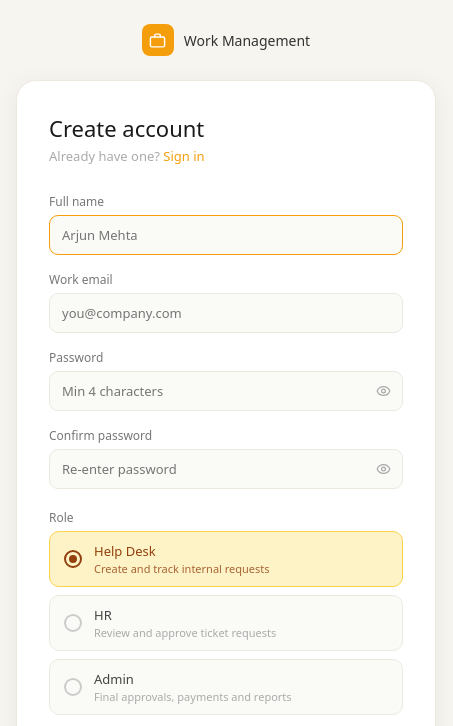
Test: RegisterPage › shows validation error on password mismatch
Type "New User" into the field labelled "Full name" at [226, 235], box [49,215,403,255]
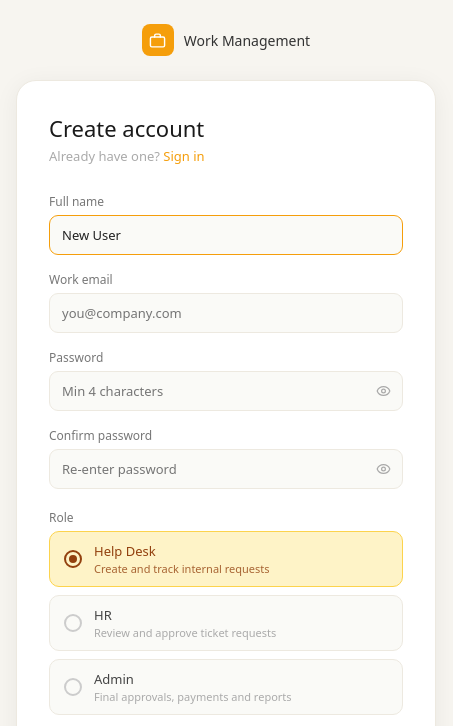
Type "newuser@company.com" into the field labelled "Work email" at [226, 313], box [49,293,403,333]
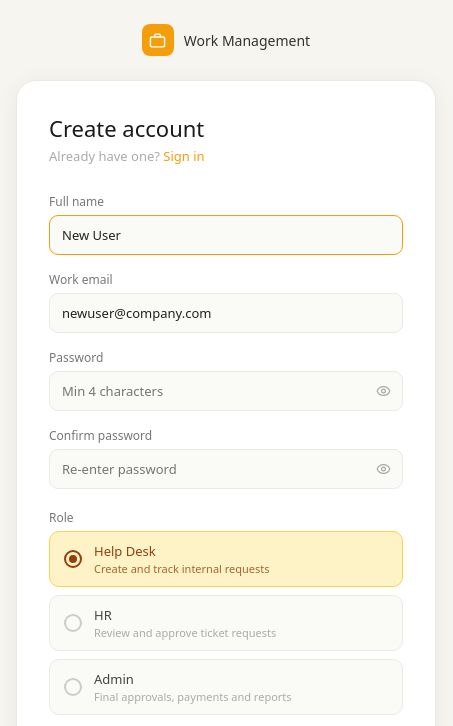
Type "12345" into the password field labelled "Password" at [226, 391], box [49,371,403,411]
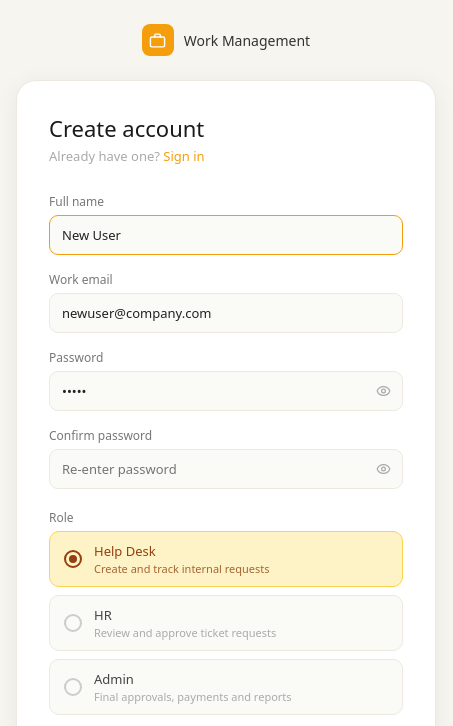
Type "54321" into the password field labelled "Confirm password" at [226, 469], box [49,449,403,489]
(page scrolled)
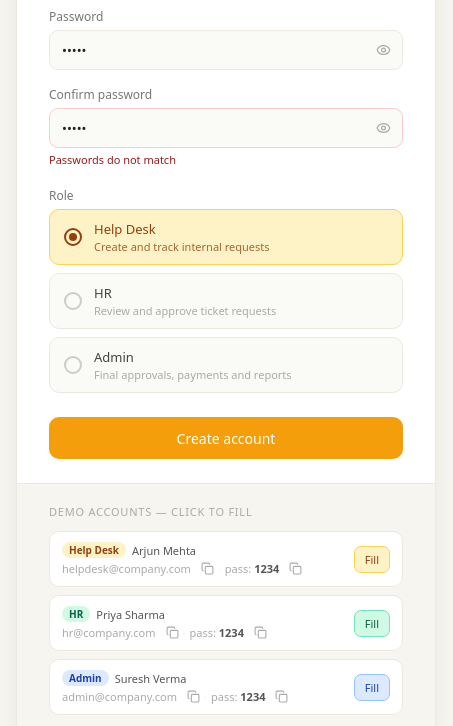
Click the button "Create account" at [226, 438], box [49,417,403,459]
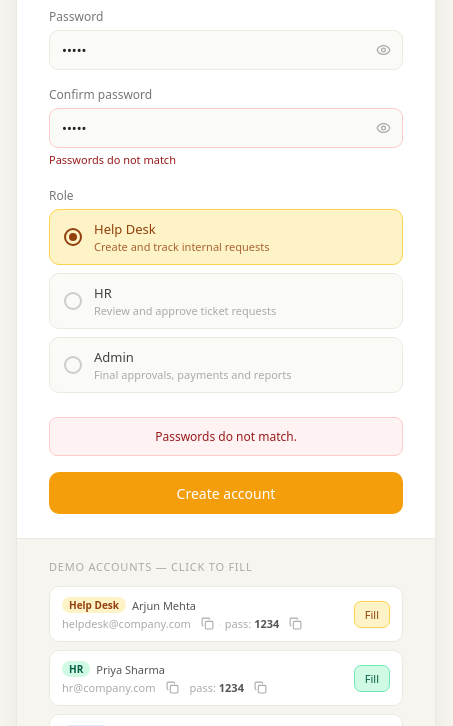
Now the message shows "Passwords do not match", box [155,428,297,445]
